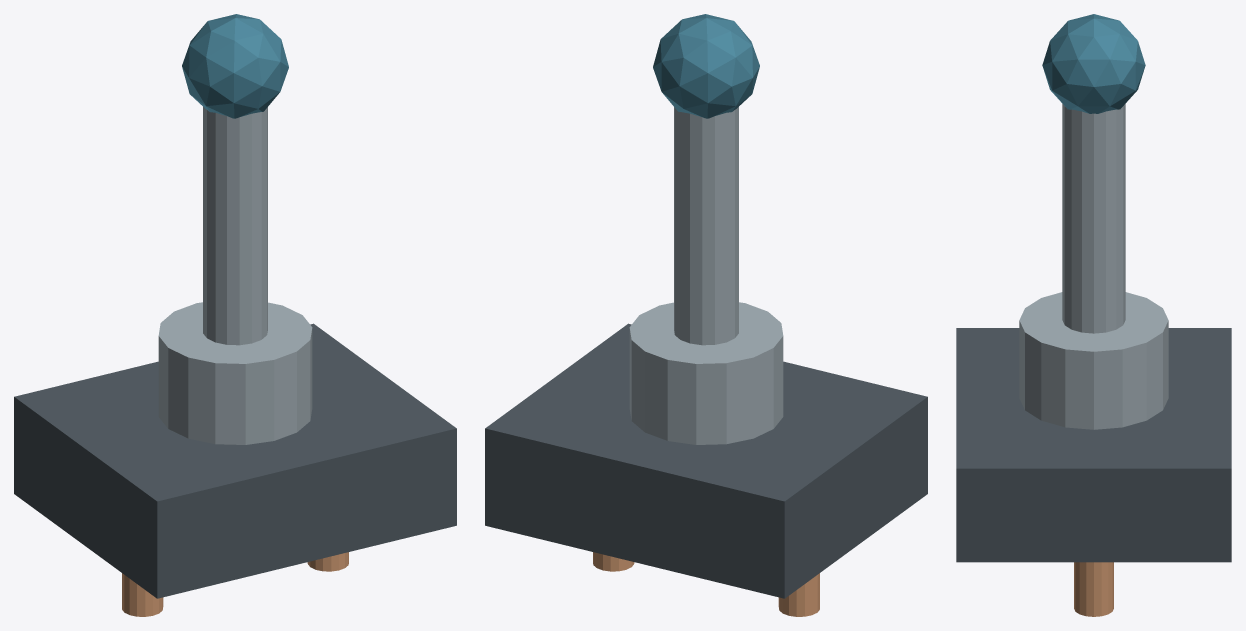
The model's file is toggle_switch_lod2.glb.
3 renders of one model, left to right at view 1: azimuth 30°, elevation 25°; view 2: azimuth 150°, elevation 25°; view 3: azimuth 270°, elevation 25°, orthographic. The views are drawn at different scales.
Visible parts, largest first — view 1: SW_BASE_MAT_POLYMER_BLACK, SW_COLLAR_MAT_METAL_BRUSHED, SW_LEVER_MAT_METAL_BRUSHED, SW_TIP_MAT_POLYMER_BLUE, SW_TERM_-0.18_MAT_METAL_COPPER; view 2: SW_BASE_MAT_POLYMER_BLACK, SW_COLLAR_MAT_METAL_BRUSHED, SW_LEVER_MAT_METAL_BRUSHED, SW_TIP_MAT_POLYMER_BLUE, SW_TERM_-0.18_MAT_METAL_COPPER; view 3: SW_BASE_MAT_POLYMER_BLACK, SW_COLLAR_MAT_METAL_BRUSHED, SW_LEVER_MAT_METAL_BRUSHED, SW_TIP_MAT_POLYMER_BLUE, SW_TERM_0.18_MAT_METAL_COPPER.
Boxes of the visible parts, left/top/right/bottom form: SW_BASE_MAT_POLYMER_BLACK: left=14, top=323, right=456, bottom=598; SW_COLLAR_MAT_METAL_BRUSHED: left=158, top=302, right=312, bottom=444; SW_LEVER_MAT_METAL_BRUSHED: left=203, top=107, right=267, bottom=345; SW_TIP_MAT_POLYMER_BLUE: left=182, top=14, right=288, bottom=118; SW_TERM_-0.18_MAT_METAL_COPPER: left=122, top=573, right=163, bottom=616; SW_BASE_MAT_POLYMER_BLACK: left=485, top=323, right=927, bottom=598; SW_COLLAR_MAT_METAL_BRUSHED: left=629, top=302, right=783, bottom=444; SW_LEVER_MAT_METAL_BRUSHED: left=674, top=107, right=738, bottom=345; SW_TIP_MAT_POLYMER_BLUE: left=653, top=14, right=759, bottom=118; SW_TERM_-0.18_MAT_METAL_COPPER: left=778, top=573, right=819, bottom=616; SW_BASE_MAT_POLYMER_BLACK: left=956, top=328, right=1231, bottom=562; SW_COLLAR_MAT_METAL_BRUSHED: left=1019, top=292, right=1168, bottom=429; SW_LEVER_MAT_METAL_BRUSHED: left=1062, top=104, right=1125, bottom=333; SW_TIP_MAT_POLYMER_BLUE: left=1042, top=14, right=1145, bottom=113; SW_TERM_0.18_MAT_METAL_COPPER: left=1074, top=562, right=1113, bottom=616.
Size of the model in its own units: 0.58 by 1.05 by 0.48.
